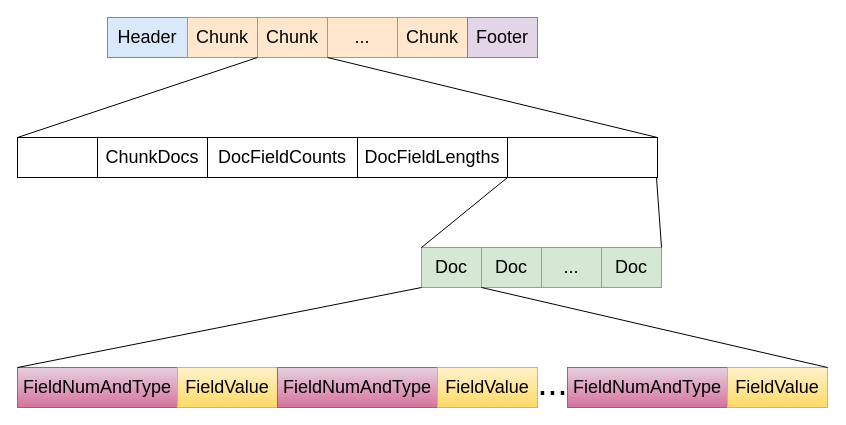
This 846x425 diagram has some shape labels left out. The shapes that lost their labels are listed below. From the top down, each one's box as (x1, y1, x2, y2) in pixels, then its label:
(16, 136, 98, 178): DocBase
(506, 136, 658, 178): CompressedDocs
